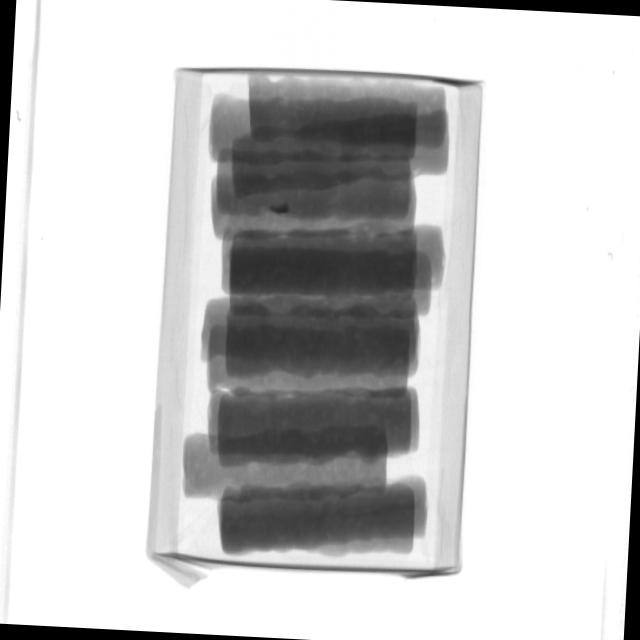ym: (270, 203, 292, 215)
